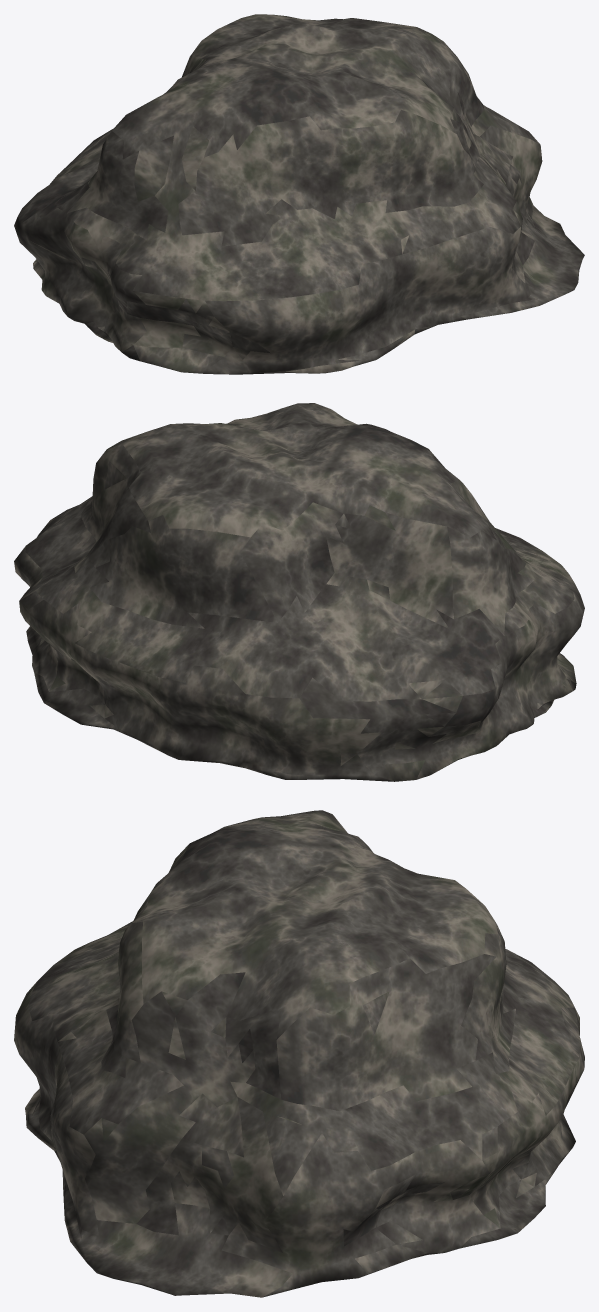
Rendered from mountain_section_01.glb.
The picture shows the model from 3 angles, top to bottom: view 1: azimuth 30°, elevation 25°; view 2: azimuth 150°, elevation 25°; view 3: azimuth 270°, elevation 25°; orthographic projection. The views are drawn at different scales.
Parts seen in each view (by area): view 1: Mountain_Section_01; view 2: Mountain_Section_01; view 3: Mountain_Section_01.
Boxes of the visible parts, <box> form: Mountain_Section_01: <box>14,14,584,374</box>; Mountain_Section_01: <box>14,403,584,781</box>; Mountain_Section_01: <box>14,810,584,1297</box>.
Size of what is drawn, in the model's own units: 12.52 by 5.67 by 10.25.
1 material, 1 textured.
